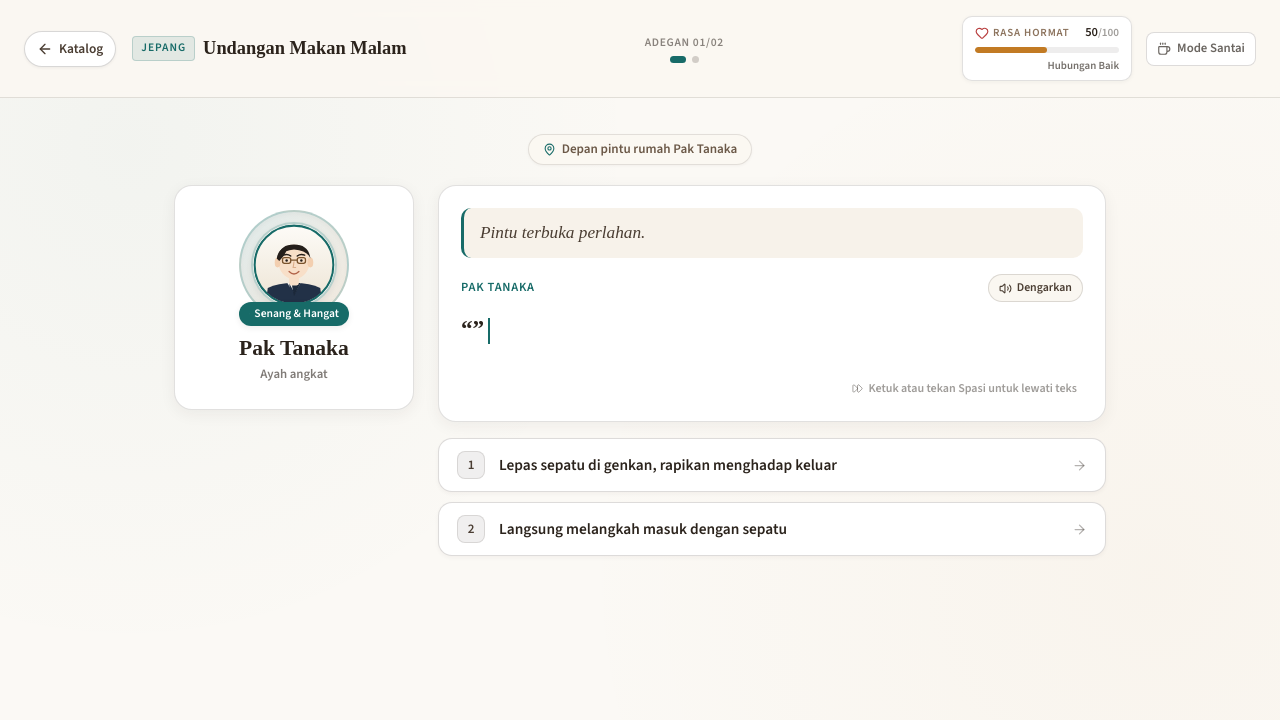
Test: StoryQuestStage UI Components › selecting a choice shows culture note card and updates respect meter
This screenshot has width=1280, height=720.
Click choice 1
Click the text "Lepas sepatu di genkan, rapikan menghadap keluar" at (668, 465), box [499,454,837,476]
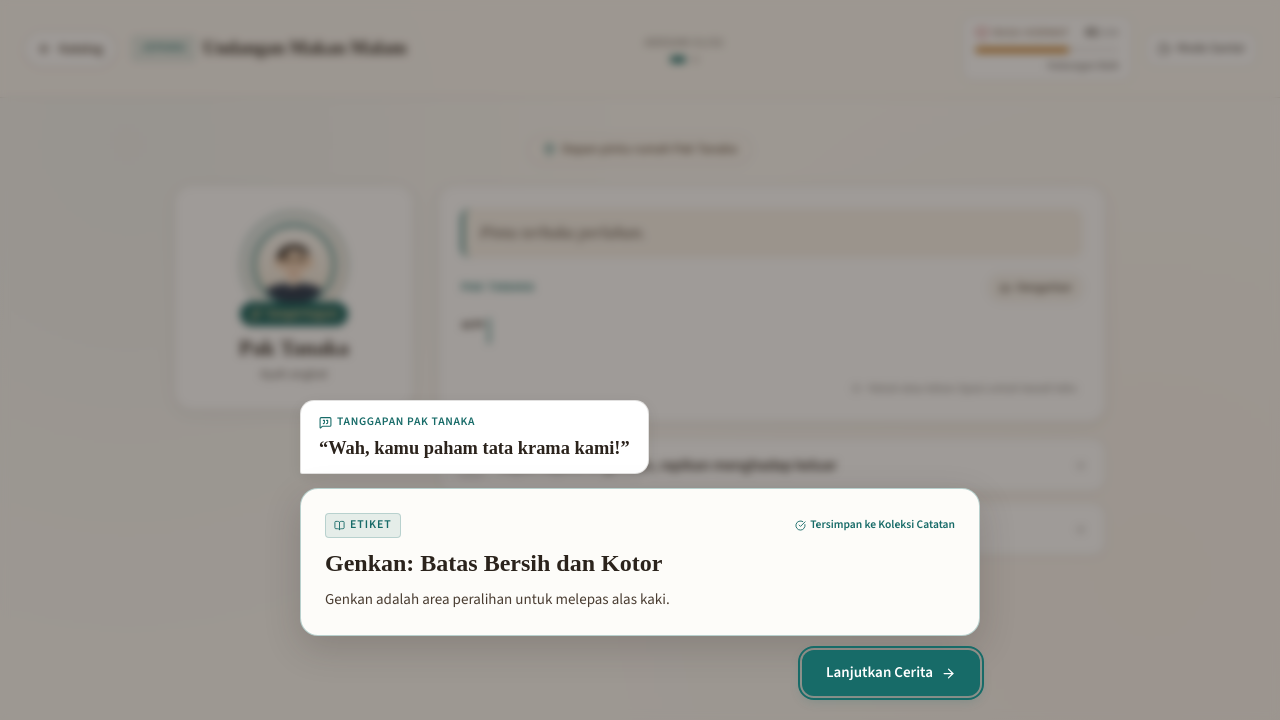
Expected: the heading "Genkan: Batas Bersih dan Kotor" is shown, [325,550,662,576]
Expected: the text "Genkan adalah area peralihan untuk melepas alas kaki." is shown, [325,589,670,610]
Expected: the text "“Wah, kamu paham tata krama kami!”" is shown, [319,436,630,461]
Click "Lanjutkan Cerita" advances to scene 2
Click the button "Lanjutkan Cerita" at (891, 673), box [802,650,980,696]
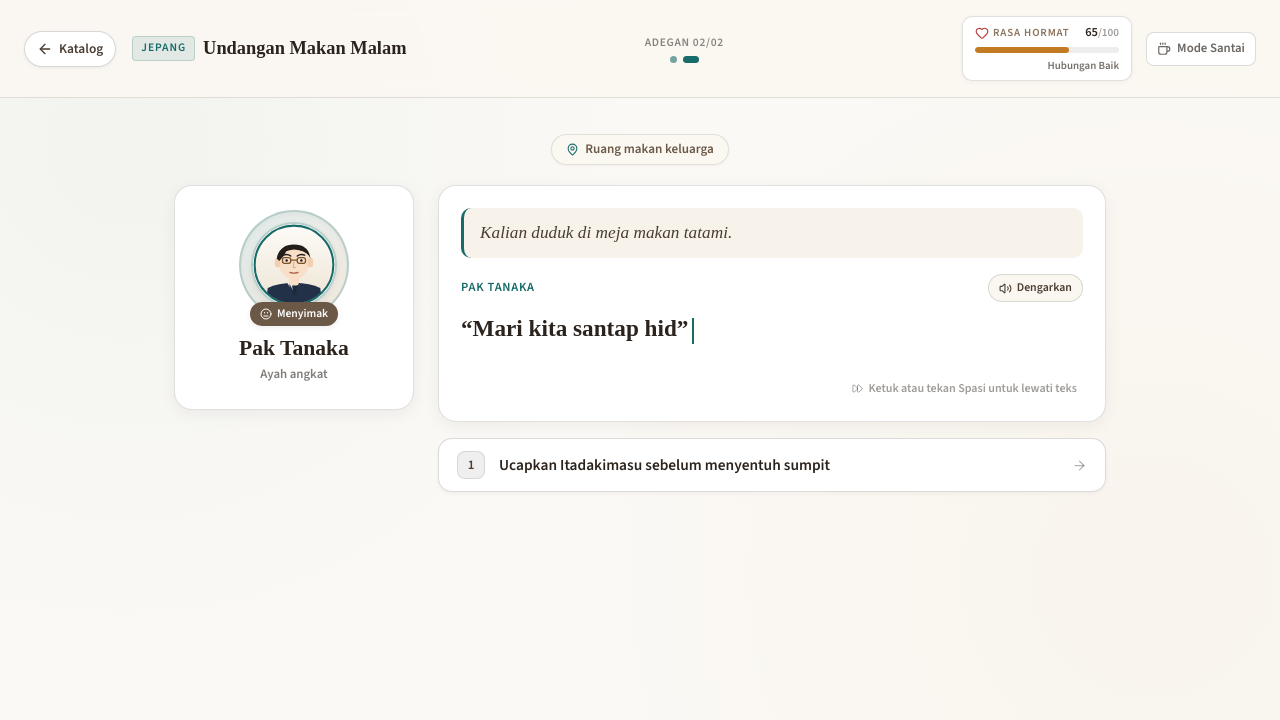
Expected: the text "Ruang makan keluarga" is shown, [585,139,714,160]
Expected: the text "Kalian duduk di meja makan tatami." is shown, [480,223,732,242]
